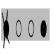correct: (40, 19, 47, 40)
not correct: (1, 8, 10, 49)
